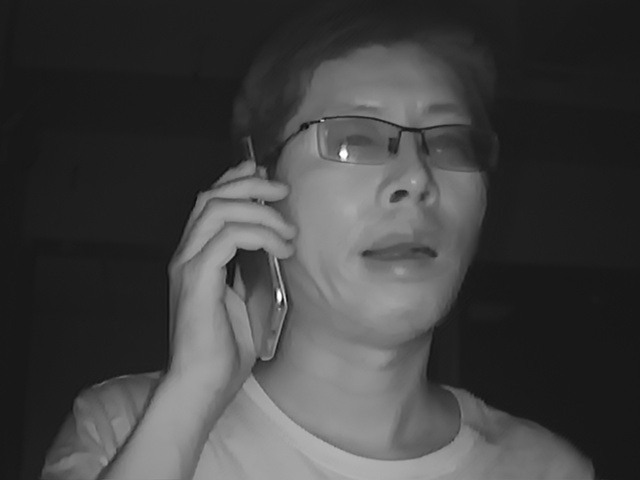hand: (159, 160, 290, 389)
